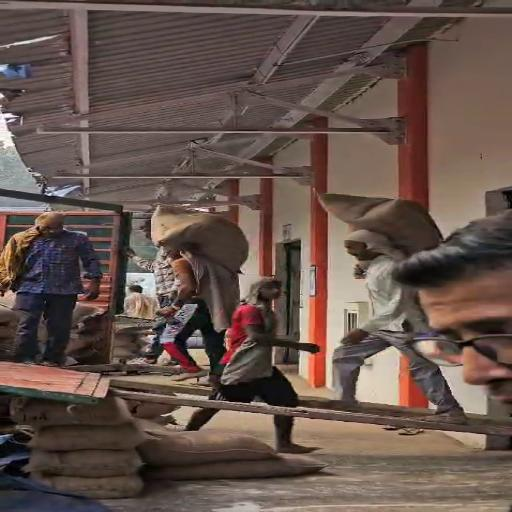bag: (309, 187, 459, 259), (144, 201, 252, 279)
